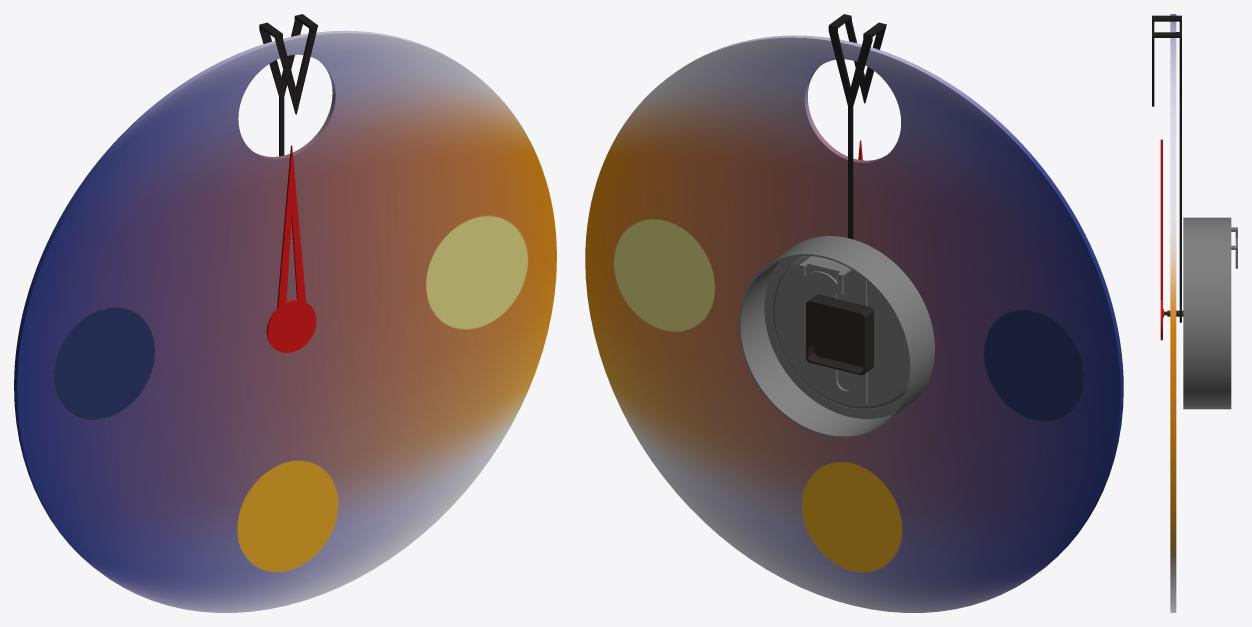
File: clock.glb
3 renders of one model, left to right at view 1: azimuth 30°, elevation 25°; view 2: azimuth 150°, elevation 25°; view 3: azimuth 270°, elevation 25°, orthographic. The views are drawn at different scales.
Parts seen in each view (by area): view 1: polySurface31, polySurface33, polySurface35; view 2: polySurface31, polySurface32, polySurface34, polySurface35; view 3: polySurface32, polySurface31, polySurface35, polySurface33.
Boxes of the visible parts, box(x1,y1,x2,y2) form: polySurface31: box(14, 30, 556, 612); polySurface33: box(266, 145, 316, 352); polySurface35: box(259, 14, 317, 156); polySurface31: box(585, 35, 1123, 612); polySurface32: box(739, 236, 934, 438); polySurface34: box(806, 294, 873, 375); polySurface35: box(828, 14, 886, 239); polySurface32: box(1183, 217, 1237, 409); polySurface31: box(1170, 14, 1176, 612); polySurface35: box(1152, 15, 1181, 322); polySurface33: box(1160, 139, 1163, 340).
Size of the model in its own units: 0.8236 by 0.8483 by 0.1181.
Materials: 5 (1 with a texture image).
